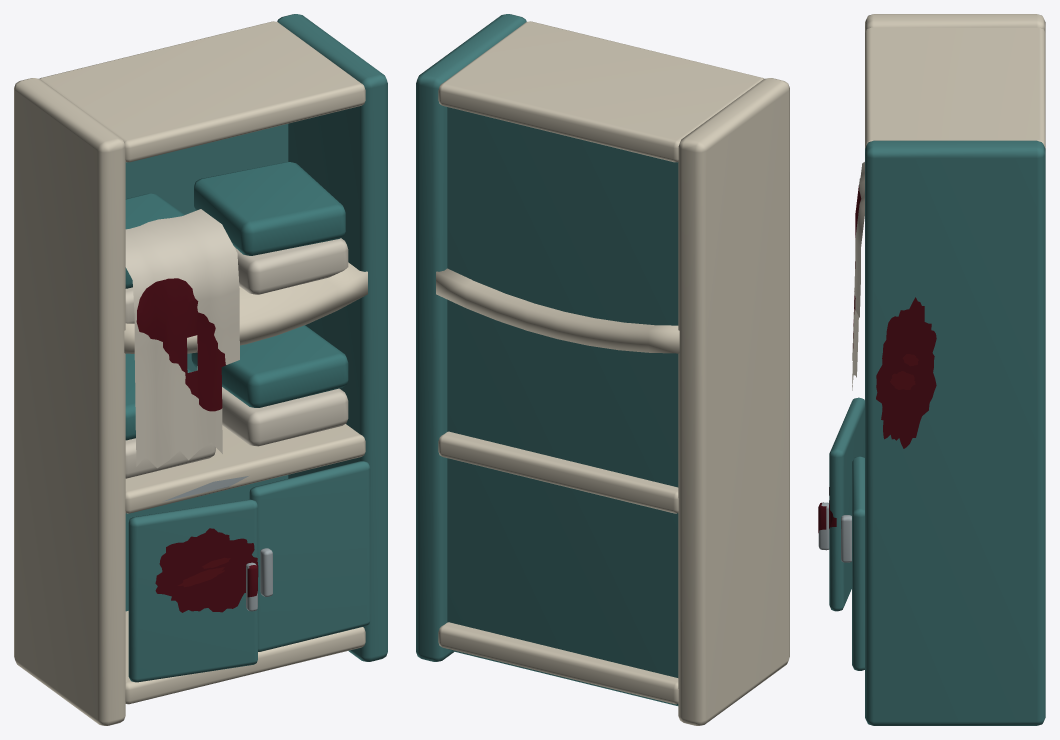
Rendered from linen_cabinet.glb.
3 views of the same model, side by side, from view 1: azimuth 30°, elevation 25°; view 2: azimuth 150°, elevation 25°; view 3: azimuth 270°, elevation 25° (orthographic).
Visible parts, largest first — view 1: OB_LinenCabinet_01_Static; view 2: OB_LinenCabinet_01_Static; view 3: OB_LinenCabinet_01_Static.
Boxes of the visible parts, x1,y1,x2,y2 form: OB_LinenCabinet_01_Static: (14, 14, 387, 725); OB_LinenCabinet_01_Static: (416, 14, 789, 725); OB_LinenCabinet_01_Static: (818, 14, 1045, 725).
Size of the model in its own units: 0.9548 by 1.84 by 0.6542.
